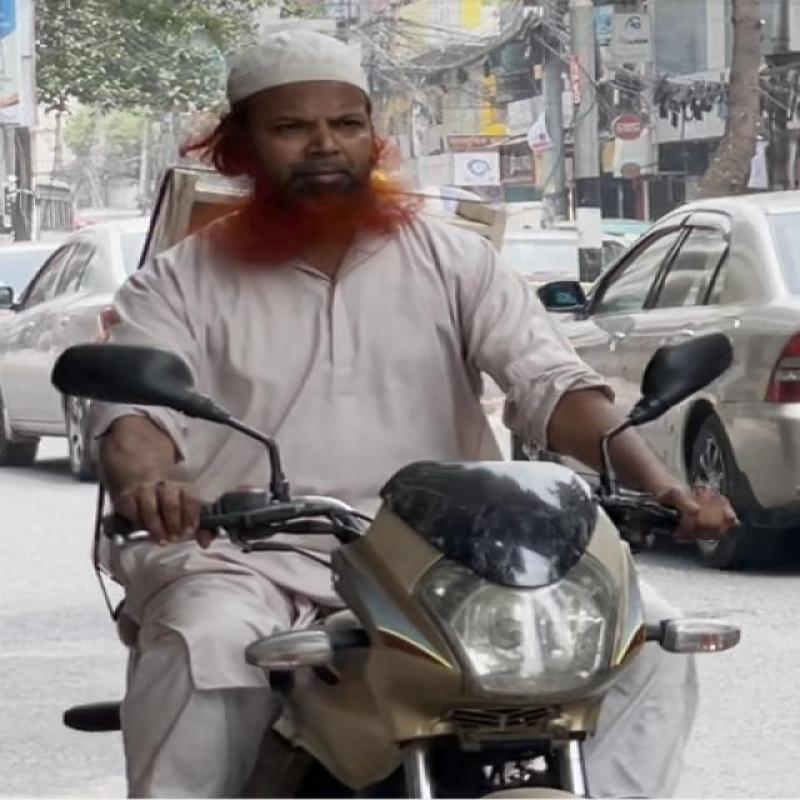nohelmet: (198, 19, 437, 262)
